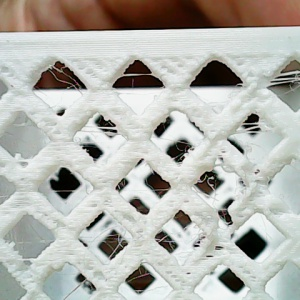3dpstringing: (193, 162, 239, 227), (36, 62, 87, 106), (79, 225, 135, 261), (75, 123, 125, 158), (2, 238, 61, 265), (228, 119, 272, 155), (150, 230, 194, 264), (117, 67, 161, 101), (119, 175, 175, 201), (260, 68, 299, 103), (151, 136, 203, 161), (207, 83, 247, 112), (123, 269, 167, 295), (56, 274, 94, 299), (39, 186, 89, 204), (257, 213, 277, 244), (8, 115, 36, 132), (10, 151, 36, 169), (2, 191, 11, 203)
3dpunderextrusion: (187, 242, 231, 277), (238, 174, 272, 212), (75, 258, 118, 287), (206, 133, 233, 169), (203, 215, 243, 238)
